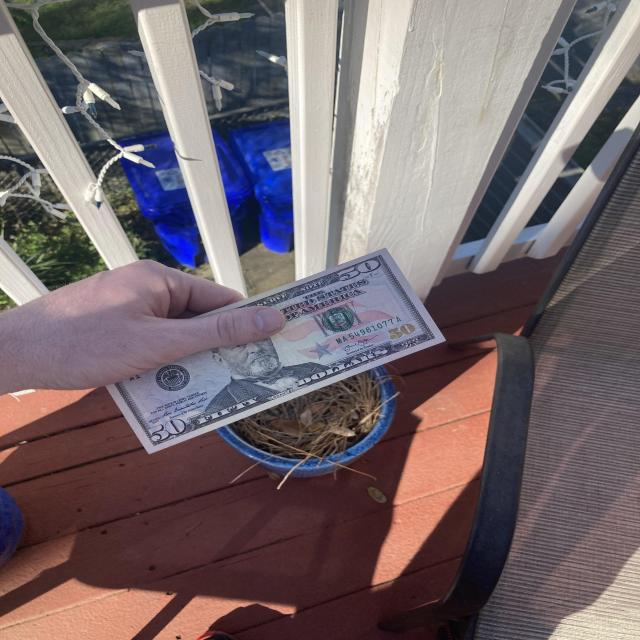fifty: (90, 237, 447, 461)
